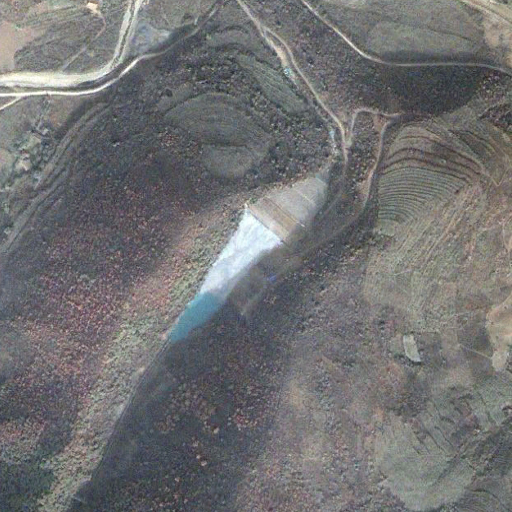tp: (164, 174, 336, 341)
